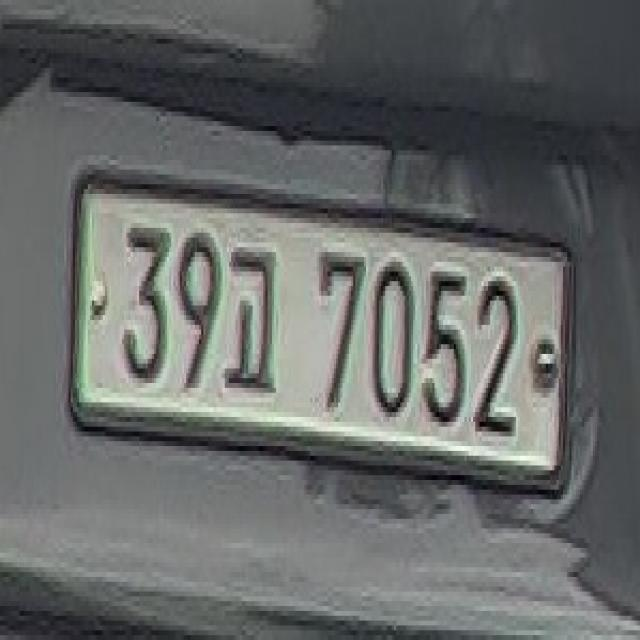0: (370, 252, 416, 422)
2: (475, 272, 520, 446)
3: (122, 218, 171, 383)
5: (422, 266, 468, 426)
7: (317, 247, 368, 412)
9: (178, 223, 222, 398)
go: (222, 238, 280, 402)
license_plate: (69, 160, 574, 490)
